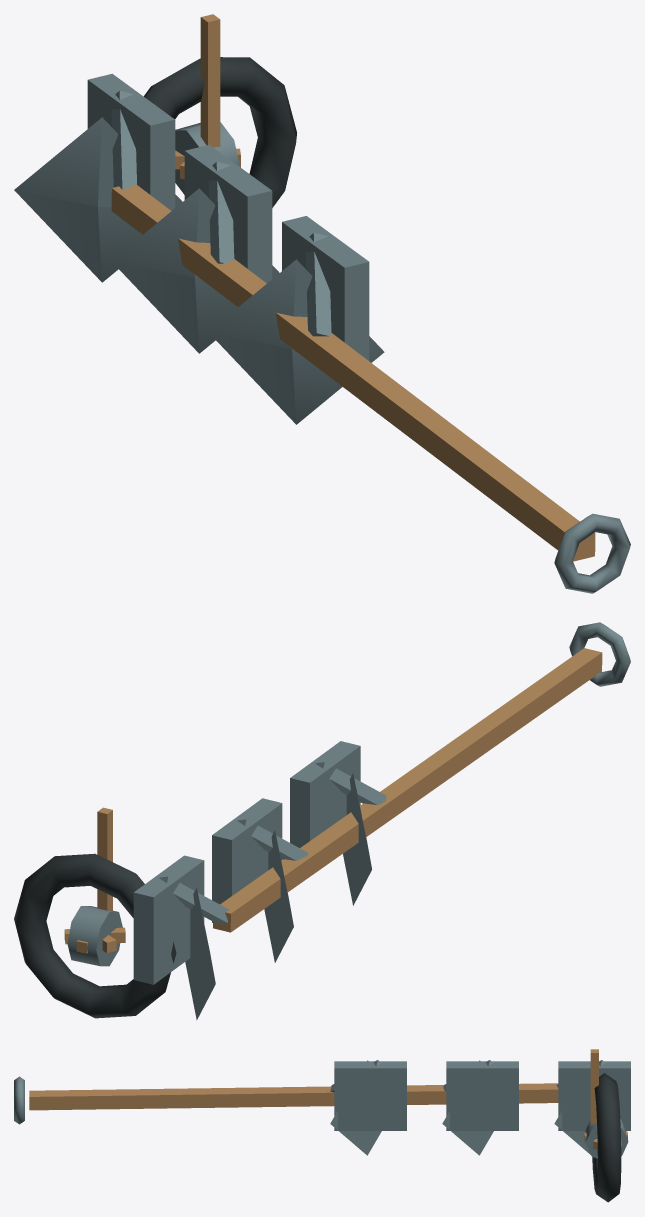
The model's file is plow.source.glb.
3 renders of one model, top to bottom at view 1: azimuth 30°, elevation 25°; view 2: azimuth 150°, elevation 25°; view 3: azimuth 270°, elevation 25°, orthographic. The views are drawn at different scales.
Parts seen in each view (by area): view 1: plow-share-mesh (×3), plow-mouldboard-mesh (×3), plow-drawbar-mesh, plow-depth-wheel-tire-mesh, plow-hitch-eye-mesh, plow-adjustment-lever-mesh, plow-brace-1-mesh, plow-brace-2-mesh, plow-brace-3-mesh, plow-depth-wheel-hub-mesh; view 2: plow-mouldboard-mesh (×3), plow-drawbar-mesh, plow-depth-wheel-tire-mesh, plow-share-mesh (×3), plow-depth-wheel-hub-mesh, plow-hitch-eye-mesh, plow-adjustment-lever-mesh, plow-brace-3-mesh, plow-brace-1-mesh, plow-brace-2-mesh; view 3: plow-mouldboard-mesh (×3), plow-drawbar-mesh, plow-depth-wheel-tire-mesh, plow-share-mesh (×3), plow-adjustment-lever-mesh, plow-depth-wheel-hub-mesh, plow-hitch-eye-mesh.
Boxes of the visible parts, box(x1,y1,x2,y2) form: plow-share-mesh (×3): box(14, 117, 384, 424); plow-mouldboard-mesh (×3): box(87, 73, 369, 360); plow-drawbar-mesh: box(111, 184, 595, 561); plow-depth-wheel-tire-mesh: box(144, 57, 296, 207); plow-hitch-eye-mesh: box(554, 513, 630, 593); plow-adjustment-lever-mesh: box(200, 14, 220, 147); plow-brace-1-mesh: box(305, 233, 331, 336); plow-brace-2-mesh: box(208, 162, 234, 263); plow-brace-3-mesh: box(111, 90, 136, 189); plow-depth-wheel-hub-mesh: box(175, 122, 239, 194); plow-mouldboard-mesh (×3): box(133, 741, 360, 984); plow-drawbar-mesh: box(213, 648, 602, 932); plow-depth-wheel-tire-mesh: box(14, 853, 176, 1018); plow-share-mesh (×3): box(185, 773, 371, 1020); plow-depth-wheel-hub-mesh: box(67, 906, 122, 966); plow-hitch-eye-mesh: box(569, 622, 630, 686); plow-adjustment-lever-mesh: box(97, 807, 112, 910); plow-brace-3-mesh: box(159, 876, 229, 923); plow-brace-1-mesh: box(315, 762, 386, 804); plow-brace-2-mesh: box(237, 819, 308, 860); plow-mouldboard-mesh (×3): box(334, 1061, 630, 1130); plow-drawbar-mesh: box(29, 1083, 558, 1110); plow-depth-wheel-tire-mesh: box(592, 1073, 621, 1202); plow-share-mesh (×3): box(330, 1060, 590, 1155); plow-adjustment-lever-mesh: box(590, 1049, 598, 1125); plow-depth-wheel-hub-mesh: box(584, 1119, 628, 1158); plow-hitch-eye-mesh: box(14, 1076, 24, 1124).
Bounding box in the file's own units: 1.08 × 0.97 × 3.74.
